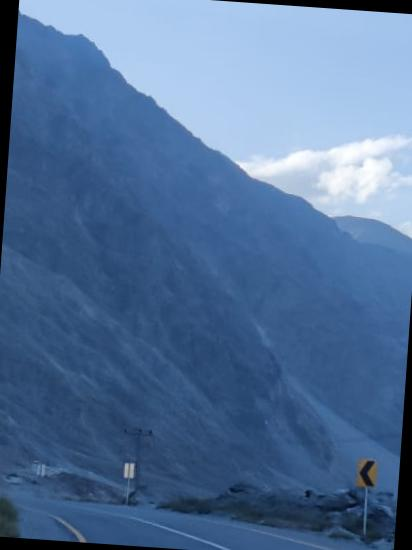left_turn: (0, 455, 234, 550), (354, 456, 378, 488)
